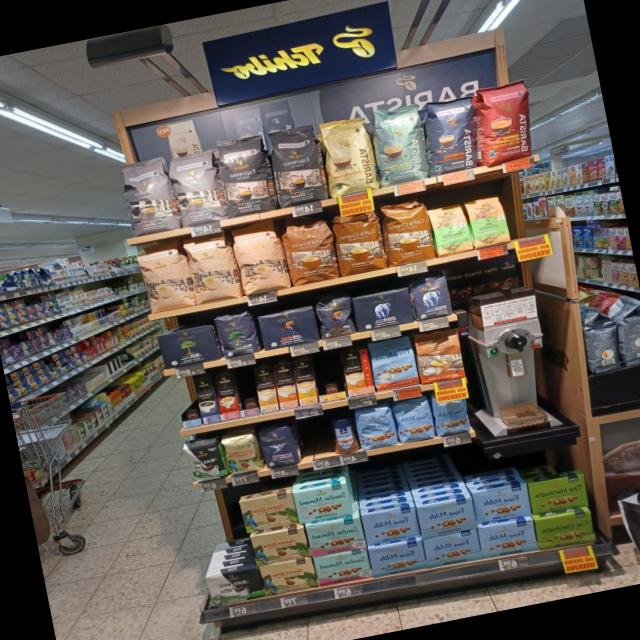AB Bohne: (406, 269, 454, 323)
AB Gemahlen: (350, 286, 416, 334)
Athiopien Gemahlen: (426, 201, 474, 259), (464, 193, 512, 250)
BM Gemahlen: (158, 324, 220, 371), (206, 566, 266, 608)
BW Bohne: (213, 306, 264, 361), (179, 432, 228, 484)
Barista CB: (313, 110, 383, 202)
Barista CC: (364, 102, 436, 190)
Barista Espresso: (421, 91, 480, 179)
Barista Kolumbien: (471, 76, 534, 170)
C Fino Bohne: (256, 419, 304, 471)
CC Mild: (230, 217, 294, 298), (133, 238, 198, 316), (182, 229, 244, 307)
CC Vollmundig: (410, 326, 468, 386)
CC Vollmundig 36 Pads: (279, 211, 343, 289), (328, 208, 391, 280), (376, 196, 438, 269)
Colombia BB Bohne: (220, 428, 265, 478)
Colombia BB Gemahlen: (240, 491, 300, 534), (258, 556, 318, 598), (250, 526, 311, 567)
Empty Shelf: (310, 354, 348, 404), (298, 420, 336, 460), (232, 369, 262, 418), (174, 379, 203, 428)
Espresso Aromatisch: (164, 145, 232, 231), (117, 153, 183, 240)
Espresso Kraftig: (264, 122, 333, 212), (212, 132, 280, 220)
FM 36 Pads: (366, 334, 420, 394)
FM Bohne: (352, 401, 400, 452), (391, 394, 437, 445), (430, 398, 472, 438)
FM Gemahlen: (414, 494, 479, 538), (366, 536, 430, 580), (470, 482, 534, 526), (476, 518, 539, 561), (361, 504, 422, 547), (422, 528, 484, 570)
FM Instant: (328, 414, 361, 456)
Herzhatfe Mundig: (533, 509, 597, 552), (526, 474, 590, 516)
LG Bohne: (312, 290, 358, 341)
LG Gemahlen: (257, 305, 321, 352)
SM Gemahlen: (292, 482, 354, 526), (305, 516, 367, 558), (313, 546, 373, 588)
Simo CCMild bigpack: (290, 358, 320, 408)
Simo CCVollmundig: (338, 348, 376, 398)
Simo CCVollmundig bigpack: (270, 362, 300, 412)
Simo Decaff: (251, 364, 282, 414)
Simo Es Elegant: (212, 372, 242, 423)
Simo Kaffee Kraft: (192, 375, 222, 426)
